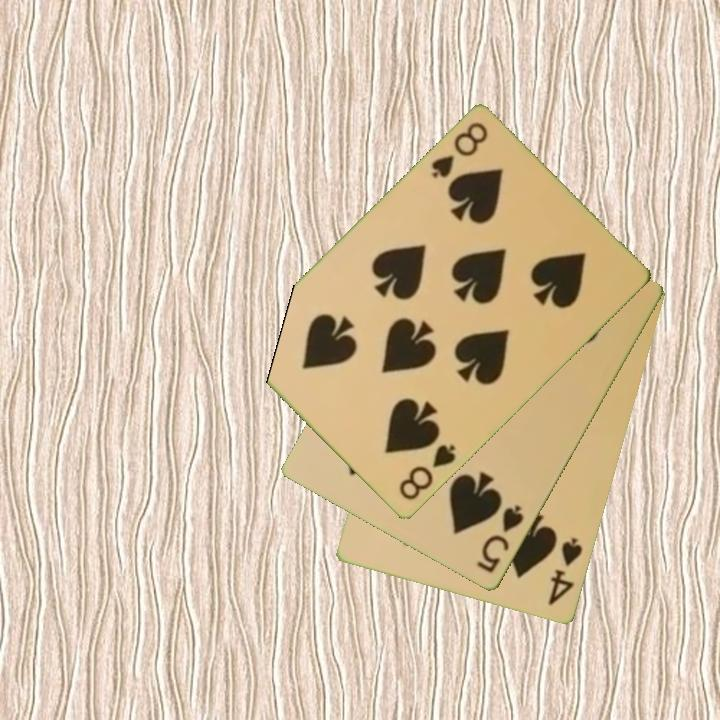4s: (545, 534, 586, 609)
5s: (473, 501, 527, 576)
8s: (395, 441, 459, 504), (427, 119, 491, 182)
